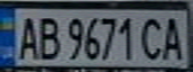1: (115, 14, 139, 61)
6: (81, 14, 103, 61)
7: (100, 14, 118, 61)
9: (63, 14, 84, 61)
A: (157, 14, 190, 61), (12, 12, 42, 61)
B: (33, 14, 60, 61)
C: (139, 14, 166, 61)
